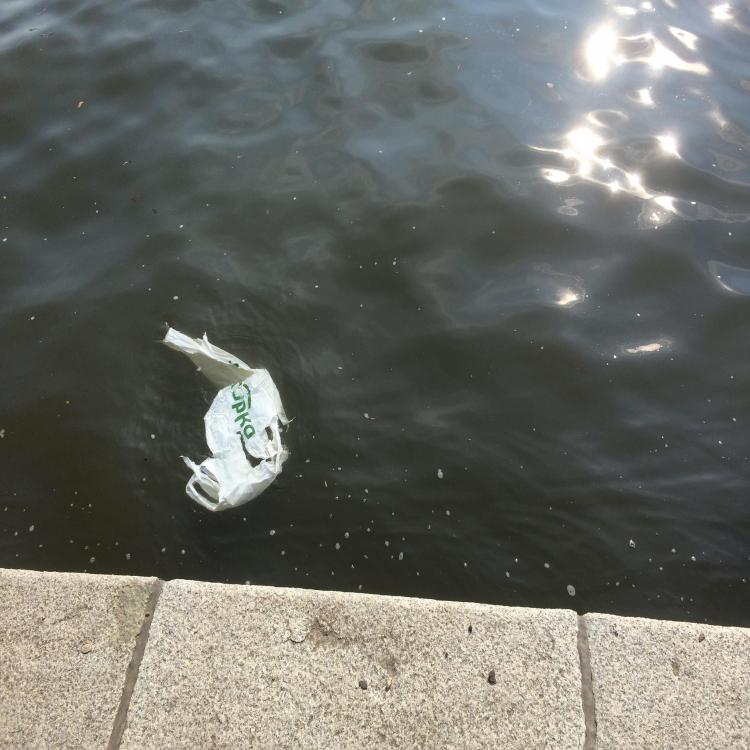Single-use carrier bag: (162, 327, 296, 512)
